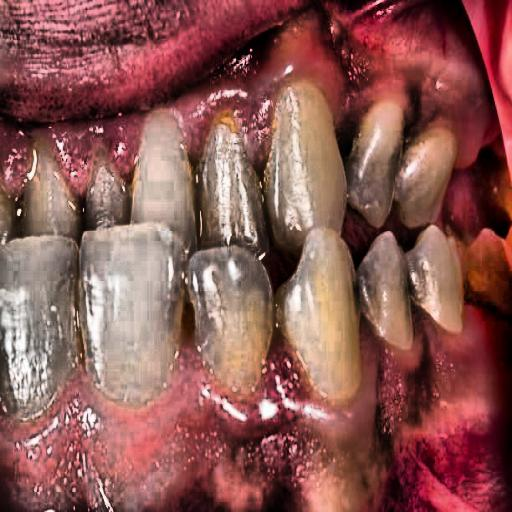Gingivitis: (252, 3, 487, 141), (0, 82, 263, 204)
